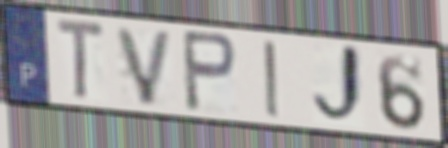6: (374, 52, 428, 132)
I: (261, 37, 284, 120)
J: (310, 41, 369, 129)
P: (179, 28, 239, 116)
T: (54, 15, 108, 103)
V: (112, 24, 176, 108)
